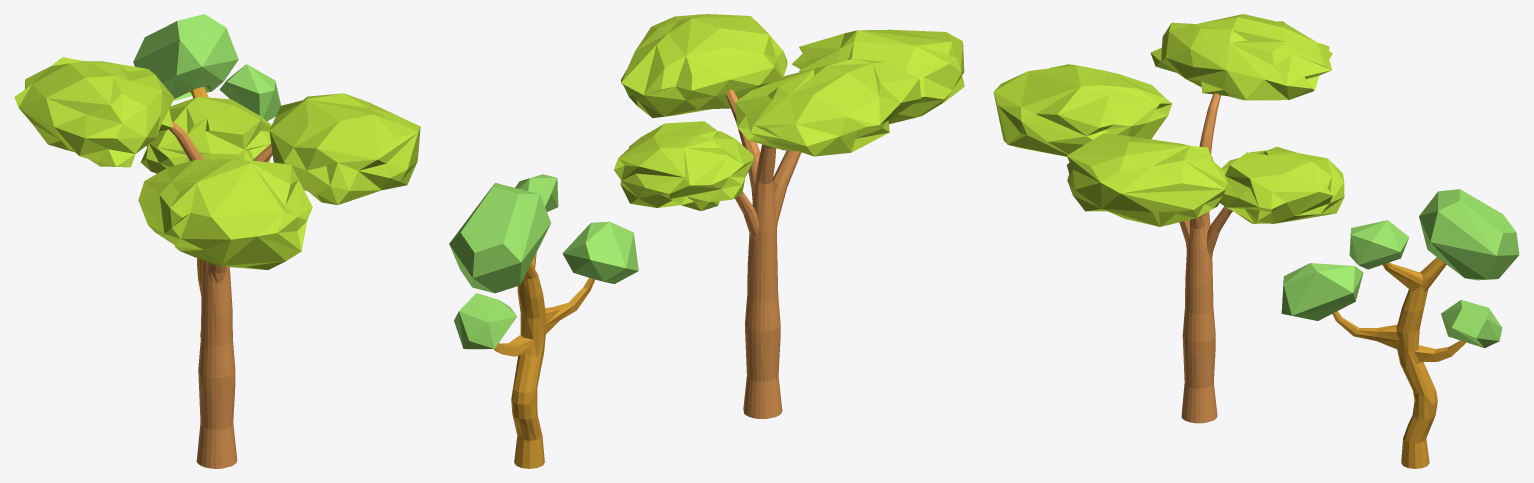
File: acacia-pair.glb
The picture shows the model from 3 angles, left to right: view 1: azimuth 30°, elevation 25°; view 2: azimuth 150°, elevation 25°; view 3: azimuth 270°, elevation 25°; orthographic projection. The views are drawn at different scales.
Parts seen in each view (by area): view 1: model; view 2: model; view 3: model.
Boxes of the visible parts, bbox=[...] form: model: bbox=[14, 14, 420, 468]; model: bbox=[449, 14, 964, 468]; model: bbox=[993, 14, 1519, 468].
Bounding box in the file's own units: 0.8528 × 0.9878 × 1.34.
